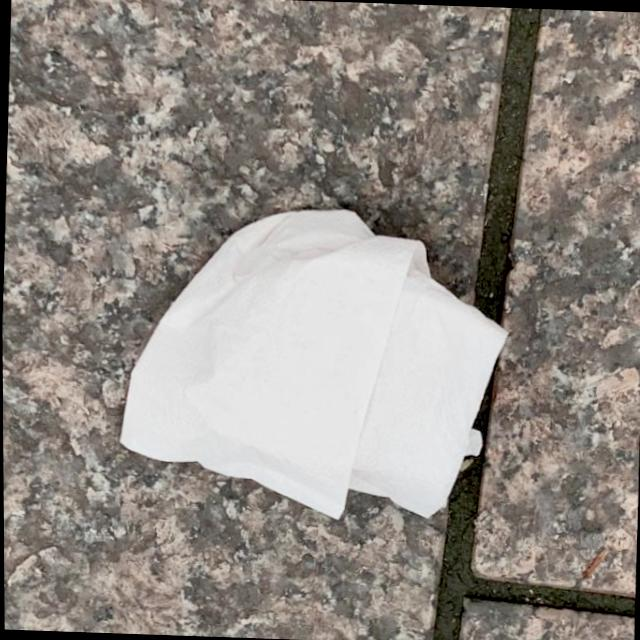Paper: (110, 198, 515, 526)
